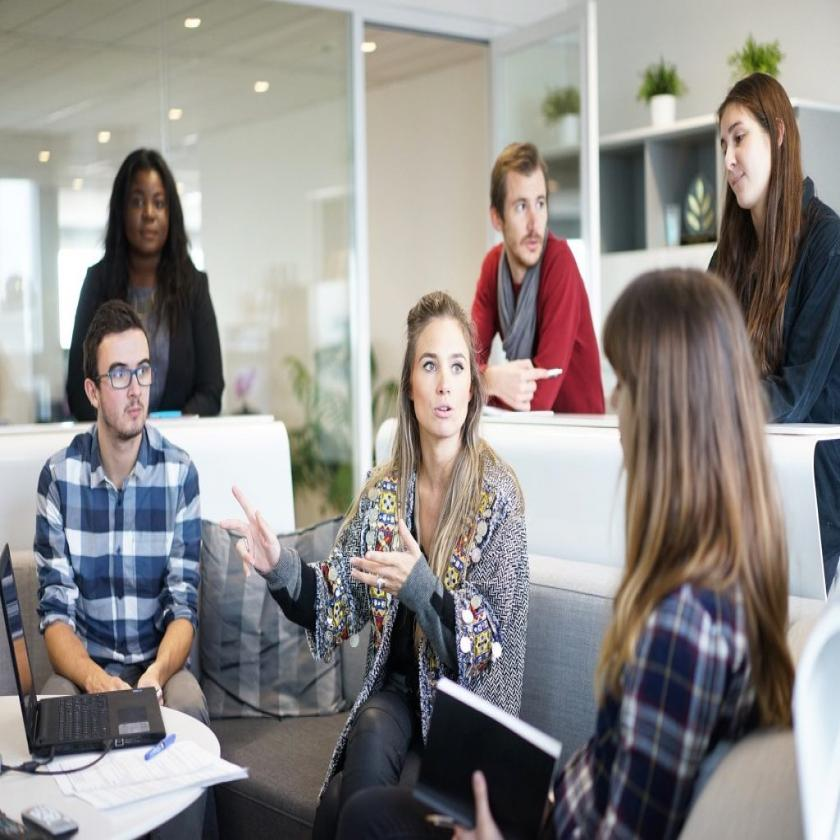Sin_casco: (592, 260, 753, 520), (396, 285, 480, 466), (82, 302, 162, 478), (710, 66, 794, 230), (486, 139, 554, 279), (114, 143, 177, 269)
